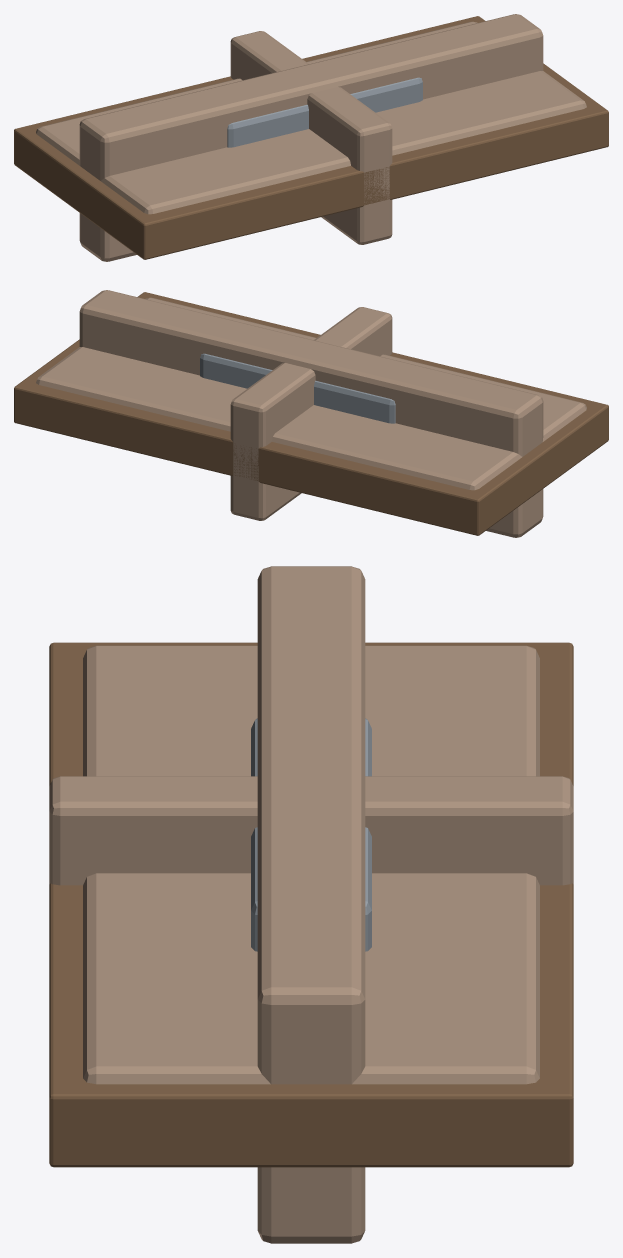
Rendered from furniture-sofa-2seat.glb.
3 views of the same model, one above another, from view 1: azimuth 30°, elevation 25°; view 2: azimuth 150°, elevation 25°; view 3: azimuth 270°, elevation 25° (orthographic). The views are drawn at different scales.
Visible parts, largest first — view 1: Base.005, Back.001, Seat.001, ArmL, Cush_0.36; view 2: Base.005, Back.001, Seat.001, ArmL, Cush_0.36; view 3: Seat.001, Base.005, Back.001, ArmL, Cush_0.36.
Part boxes in pixels (x1=…): Base.005: x1=14, y1=16, x2=608, y2=259; Back.001: x1=79, y1=14, x2=543, y2=261; Seat.001: x1=36, y1=21, x2=586, y2=214; ArmL: x1=230, y1=31, x2=392, y2=244; Cush_0.36: x1=227, y1=77, x2=422, y2=147; Base.005: x1=14, y1=292, x2=608, y2=535; Back.001: x1=79, y1=290, x2=543, y2=537; Seat.001: x1=36, y1=297, x2=586, y2=490; ArmL: x1=230, y1=307, x2=392, y2=520; Cush_0.36: x1=200, y1=353, x2=395, y2=423; Seat.001: x1=83, y1=645, x2=539, y2=1084; Base.005: x1=49, y1=642, x2=573, y2=1167; Back.001: x1=257, y1=566, x2=365, y2=1243; ArmL: x1=49, y1=776, x2=573, y2=885; Cush_0.36: x1=251, y1=718, x2=371, y2=951.
Bounding box in the file's own units: 1.6 × 0.42 × 0.78.
